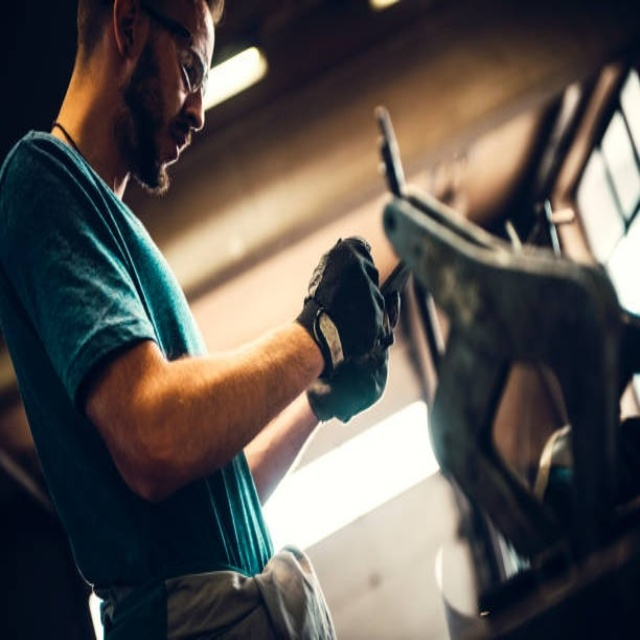Gafas: (116, 1, 210, 92)
Guantes: (295, 235, 402, 419)
Sin_mascara: (148, 119, 195, 188)
